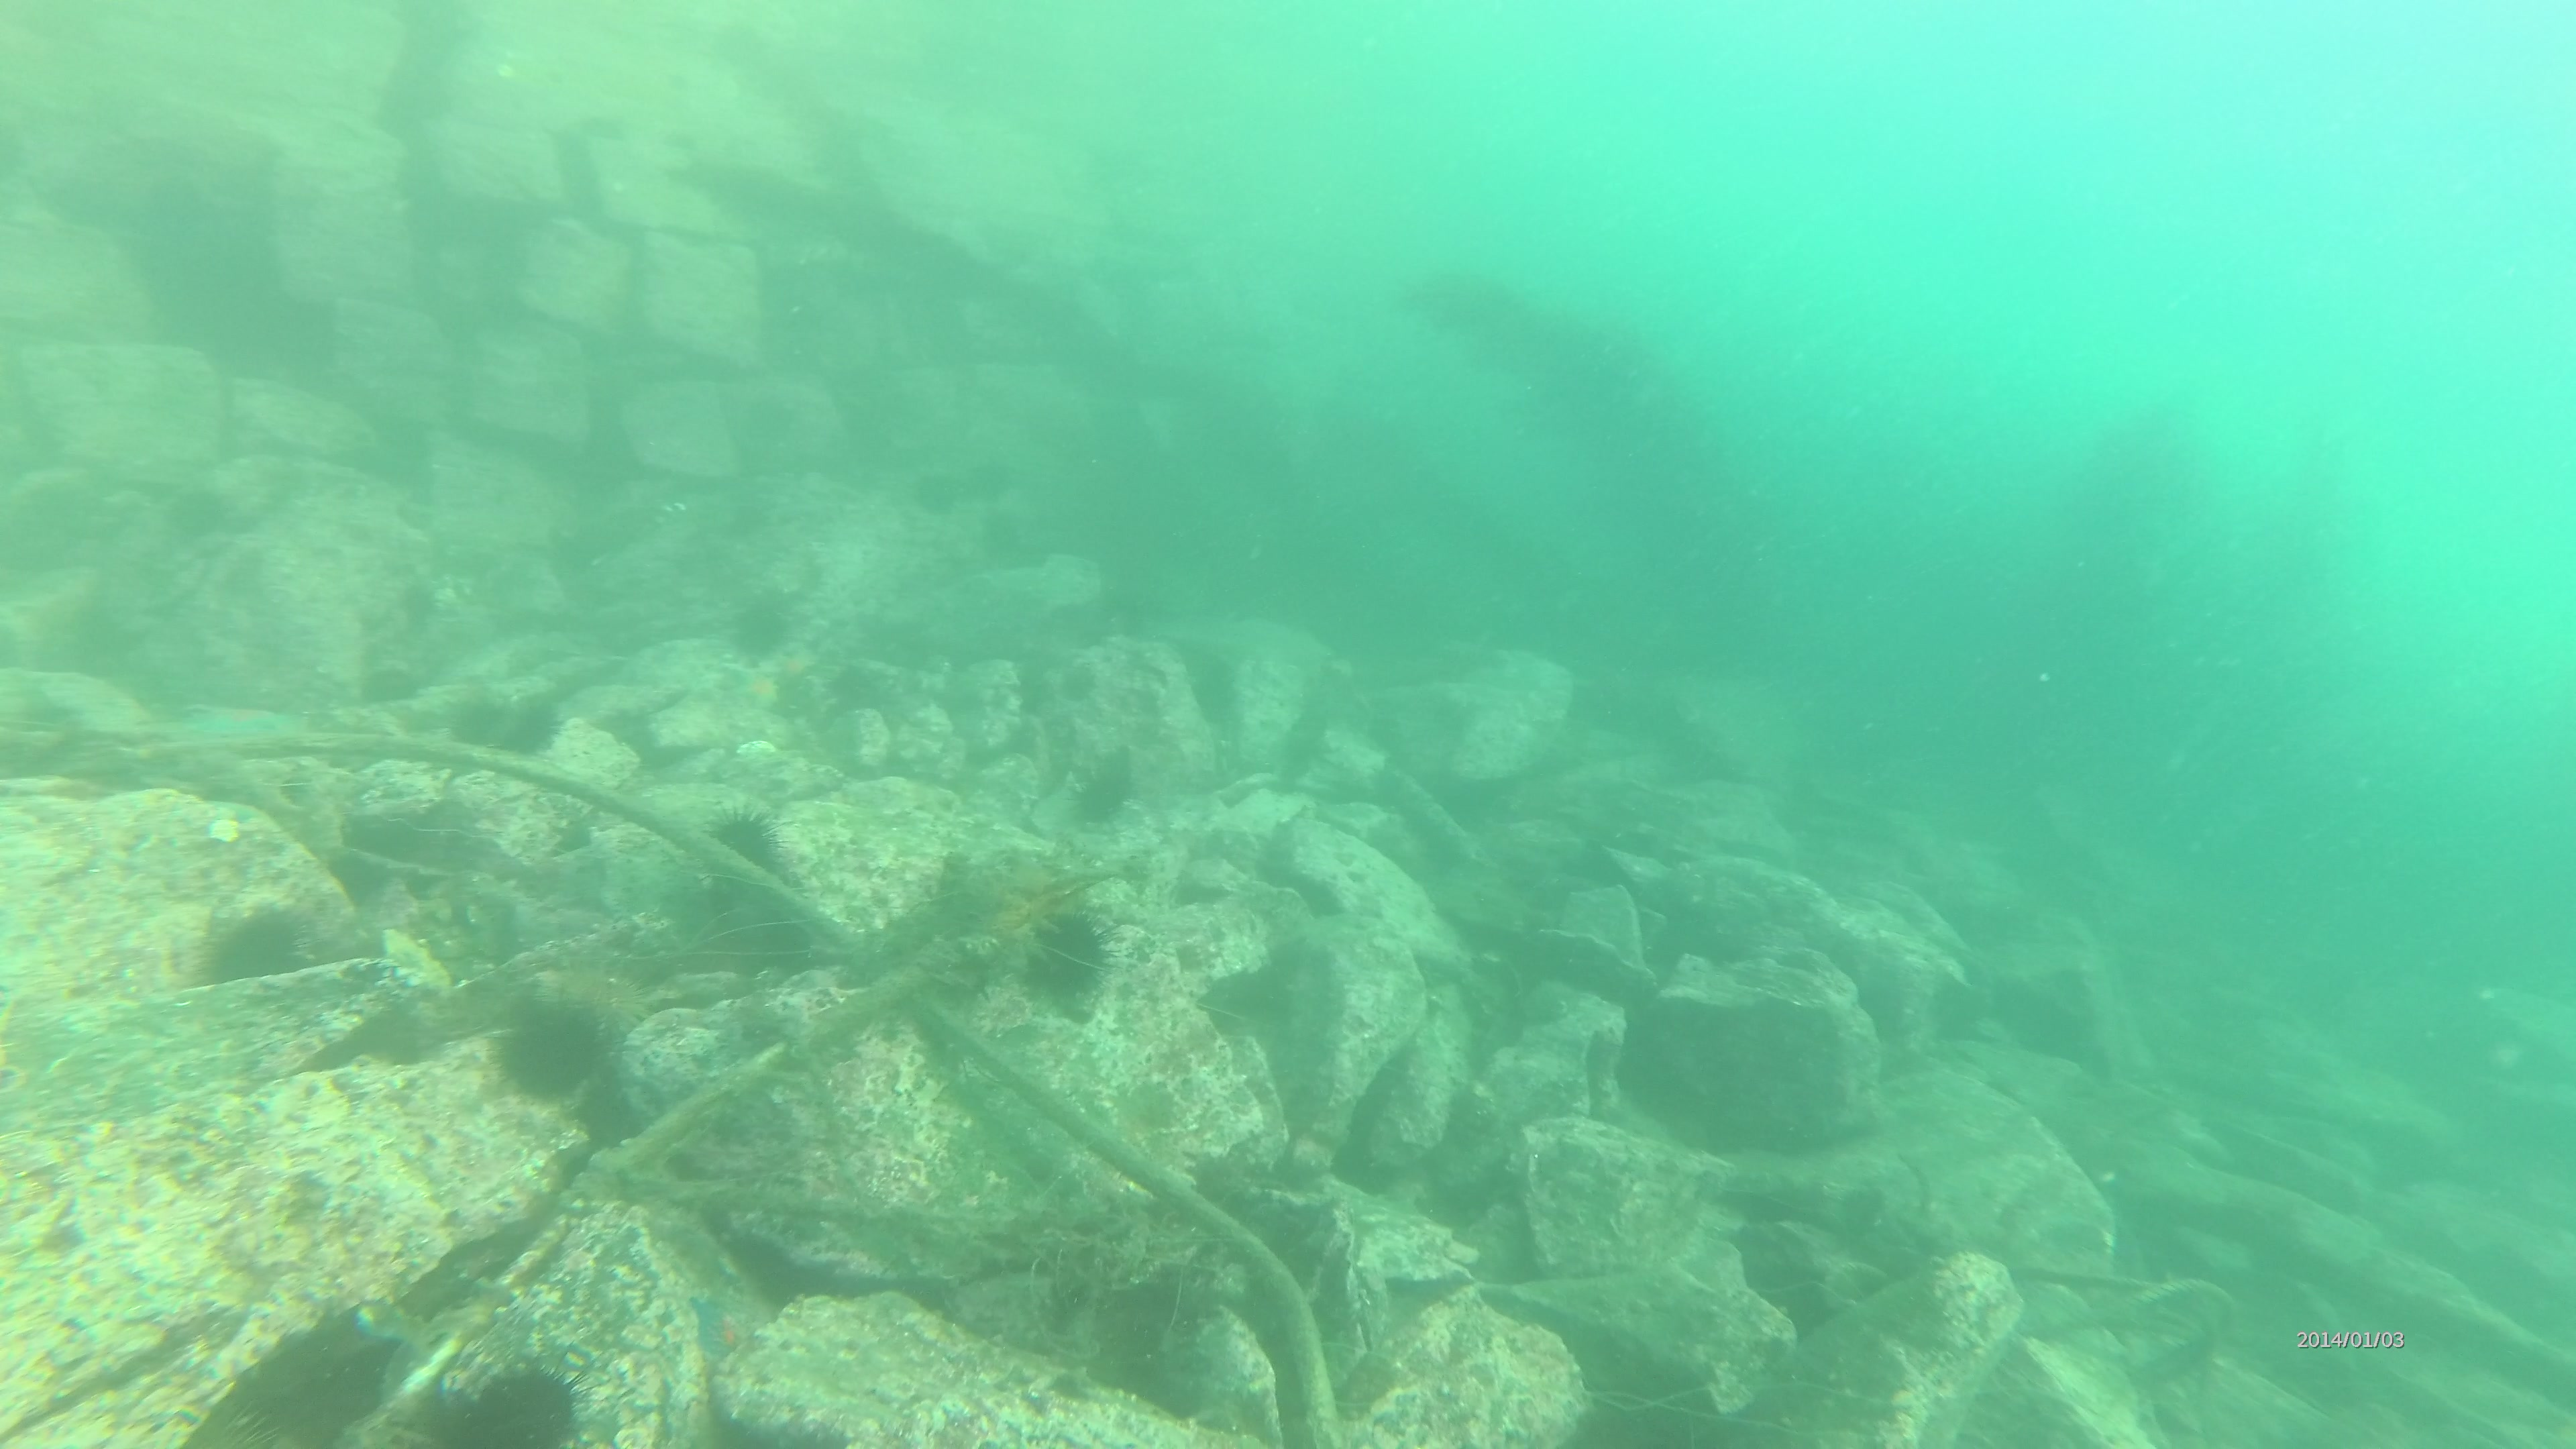echinus: (453, 1355, 602, 1449), (189, 904, 317, 996), (494, 991, 596, 1102), (1005, 901, 1118, 1001), (531, 952, 639, 1039), (697, 801, 782, 904)
starfish: (683, 1284, 748, 1364)
